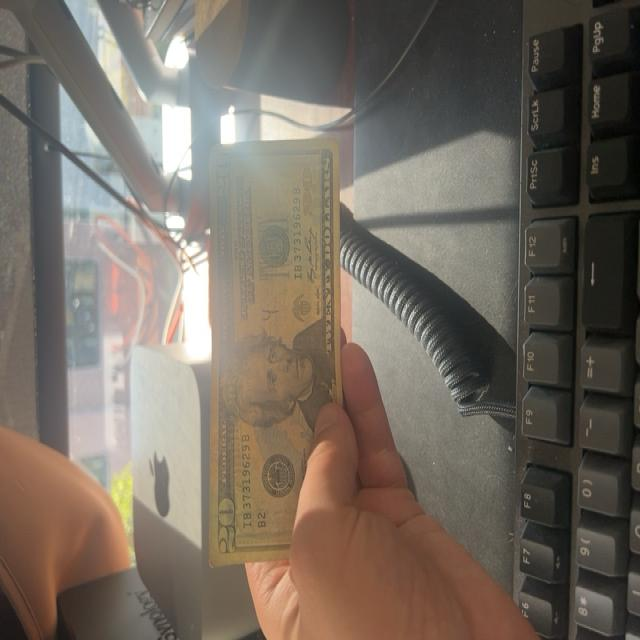twenty: (207, 139, 343, 570)
